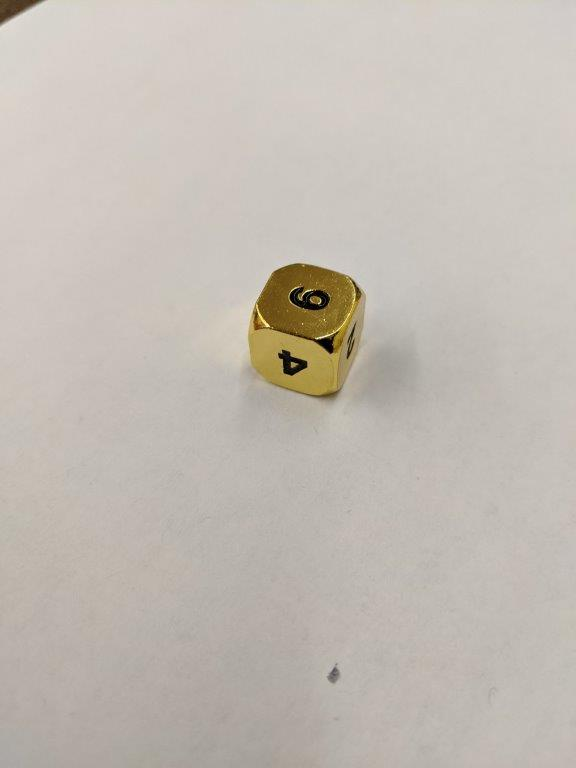d6-6: (247, 261, 367, 404)
